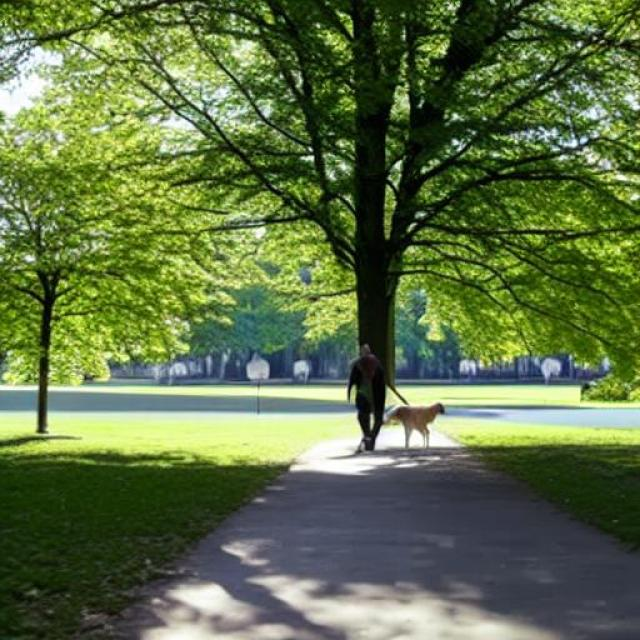Unleashed_Dog: (357, 383, 447, 453)
